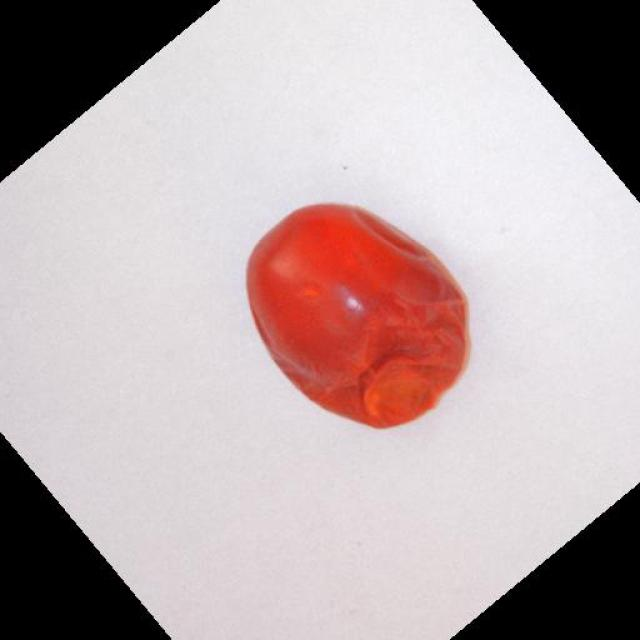Stale_tomato: (236, 221, 460, 409)
